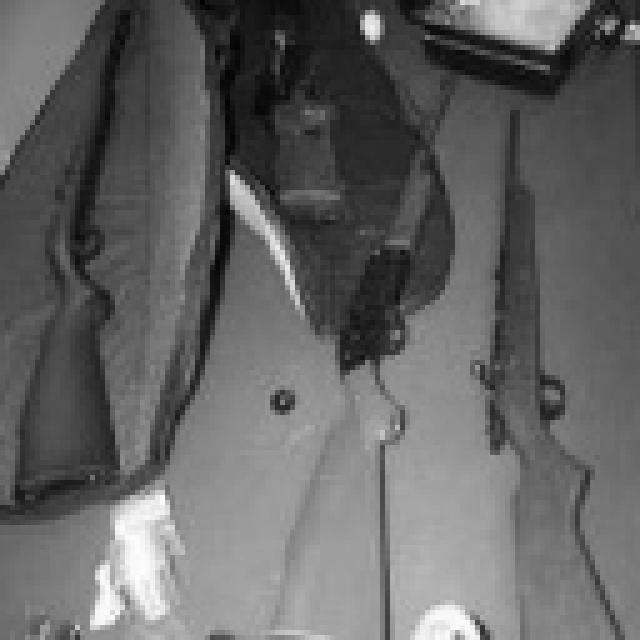Rifle: (178, 39, 500, 640), (0, 0, 160, 570), (505, 125, 640, 640), (229, 0, 366, 241), (291, 551, 416, 640), (57, 154, 117, 330), (275, 549, 383, 612), (204, 520, 290, 560), (377, 402, 381, 562)
